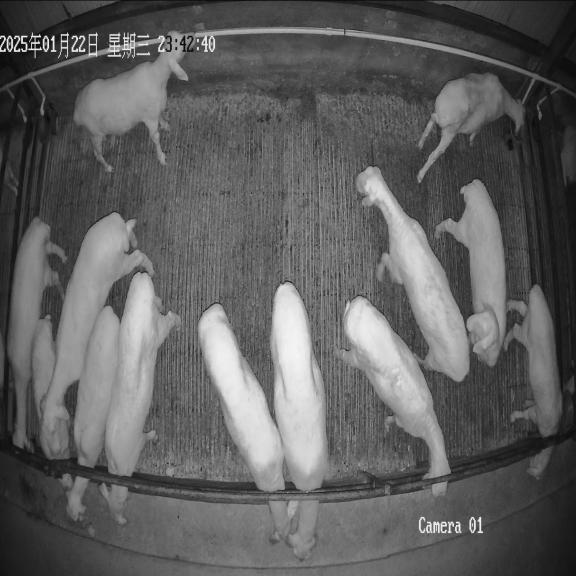drinking: (417, 72, 524, 182)
eating: (198, 303, 298, 542), (334, 296, 451, 497), (100, 272, 180, 525), (270, 281, 328, 559), (66, 306, 120, 522), (504, 284, 562, 479), (32, 315, 74, 491)
stand: (41, 212, 154, 457), (356, 166, 469, 381), (73, 31, 194, 172), (7, 217, 66, 451), (435, 179, 506, 366)
